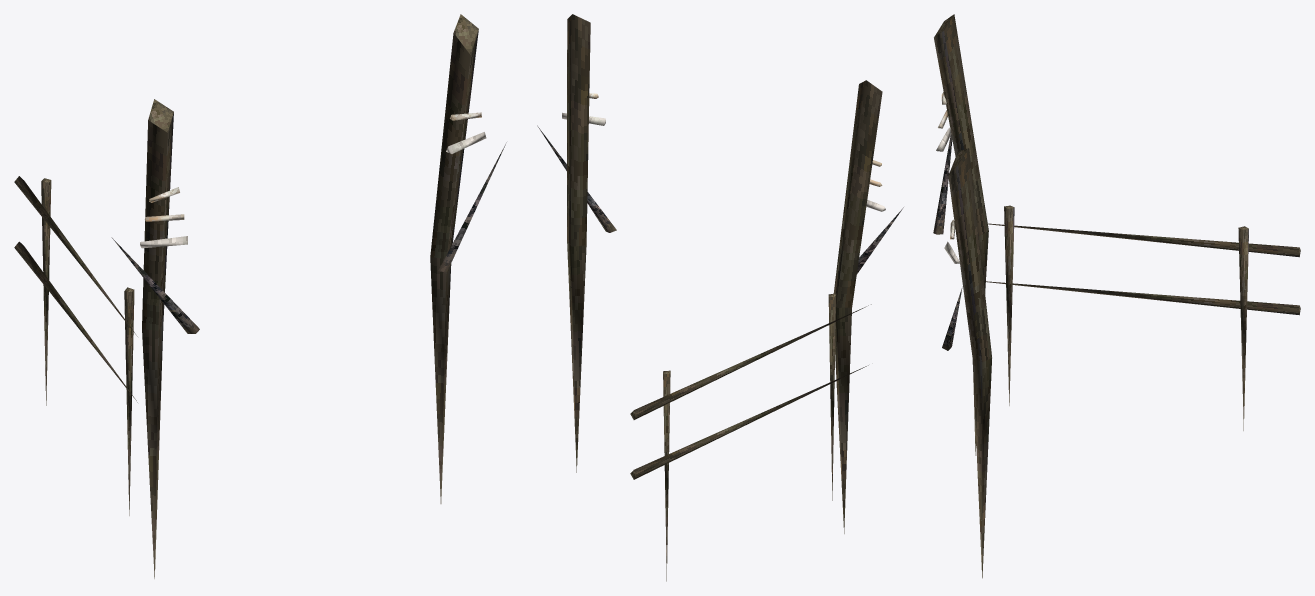
Rendered from thm_dant_gate_l4.fbx.
3 renders of one model, left to right at view 1: azimuth 30°, elevation 25°; view 2: azimuth 150°, elevation 25°; view 3: azimuth 270°, elevation 25°, orthographic. The views are drawn at different scales.
Parts seen in each view (by area): view 1: mesh_node; view 2: mesh_node; view 3: mesh_node.
Boxes of the visible parts, <box> form: mesh_node: <box>14,14,506,578</box>; mesh_node: <box>537,14,903,581</box>; mesh_node: <box>933,14,1300,578</box>.
Size of the model in its own units: 4.21 by 4.98 by 3.78.
